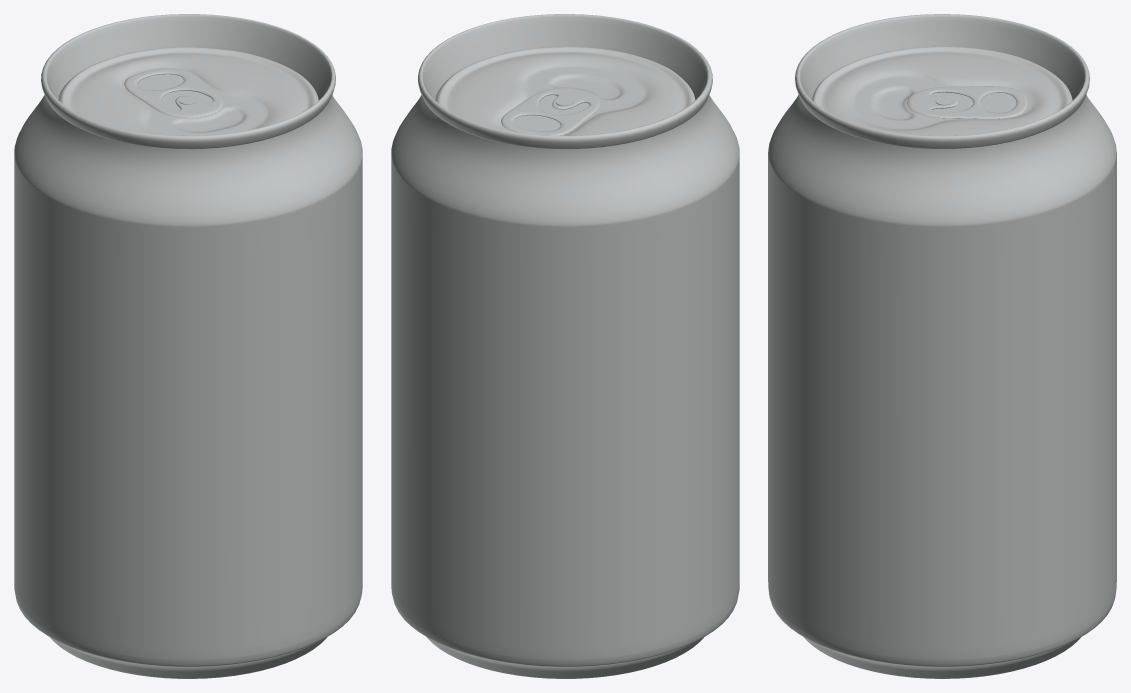
3 views of the same model, side by side, from view 1: azimuth 30°, elevation 25°; view 2: azimuth 150°, elevation 25°; view 3: azimuth 270°, elevation 25° (orthographic).
Parts seen in each view (by area): view 1: closed_soda_can; view 2: closed_soda_can; view 3: closed_soda_can.
Boxes of the visible parts, <box> form: closed_soda_can: <box>14,14,362,678</box>; closed_soda_can: <box>391,14,739,678</box>; closed_soda_can: <box>768,14,1116,678</box>.
Bounding box in the file's own units: 7 × 12 × 7.
1 material, 1 textured.
